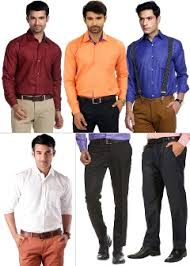F_belt: (5, 90, 58, 105), (83, 135, 138, 149), (73, 92, 124, 107)
F_dress pants: (82, 142, 133, 250), (139, 143, 190, 245)
F_shirt: (2, 166, 76, 233)
